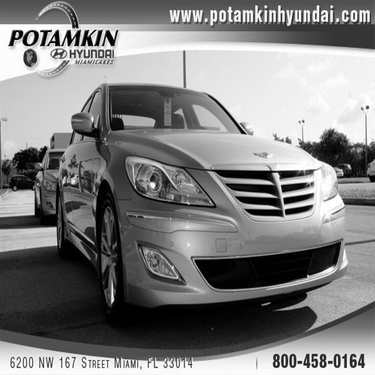car: (53, 79, 354, 337), (23, 150, 74, 223), (5, 168, 38, 194), (359, 146, 374, 187), (330, 161, 356, 175), (328, 165, 346, 182)
